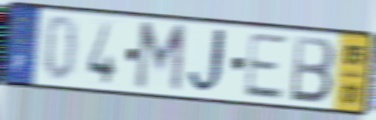0: (43, 14, 81, 85)
4: (84, 19, 121, 88)
B: (288, 33, 338, 107)
E: (241, 30, 290, 102)
J: (186, 26, 233, 97)
M: (132, 20, 188, 97)
